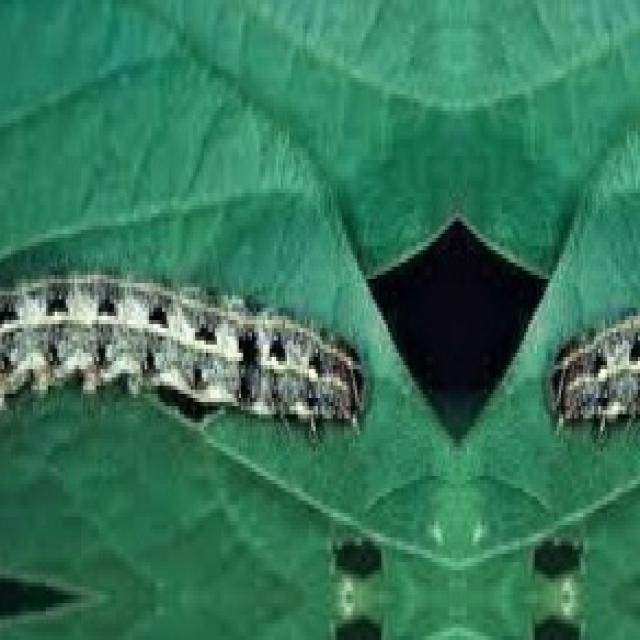armyworm: (0, 263, 366, 439), (544, 304, 638, 439)
